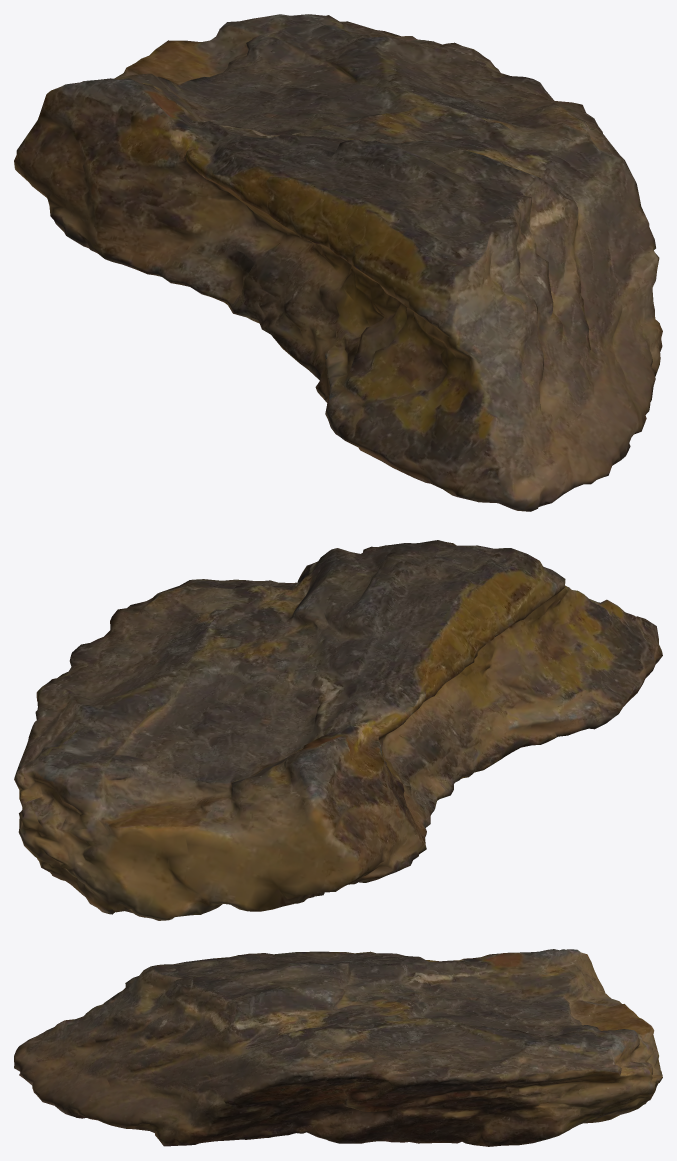
The model's file is polyhaven-rock-09.glb.
The picture shows the model from 3 angles, top to bottom: view 1: azimuth 30°, elevation 25°; view 2: azimuth 150°, elevation 25°; view 3: azimuth 270°, elevation 25°; orthographic projection. The views are drawn at different scales.
Visible parts, largest first — view 1: rock_09_LOD0; view 2: rock_09_LOD0; view 3: rock_09_LOD0.
Boxes of the visible parts, x1,y1,x2,y2 form: rock_09_LOD0: (14, 14, 662, 511); rock_09_LOD0: (14, 540, 662, 920); rock_09_LOD0: (14, 949, 662, 1146).
Bounding box in the file's own units: 0.074 × 0.0329 × 0.1446.
Materials: 1 (1 with a texture image).
